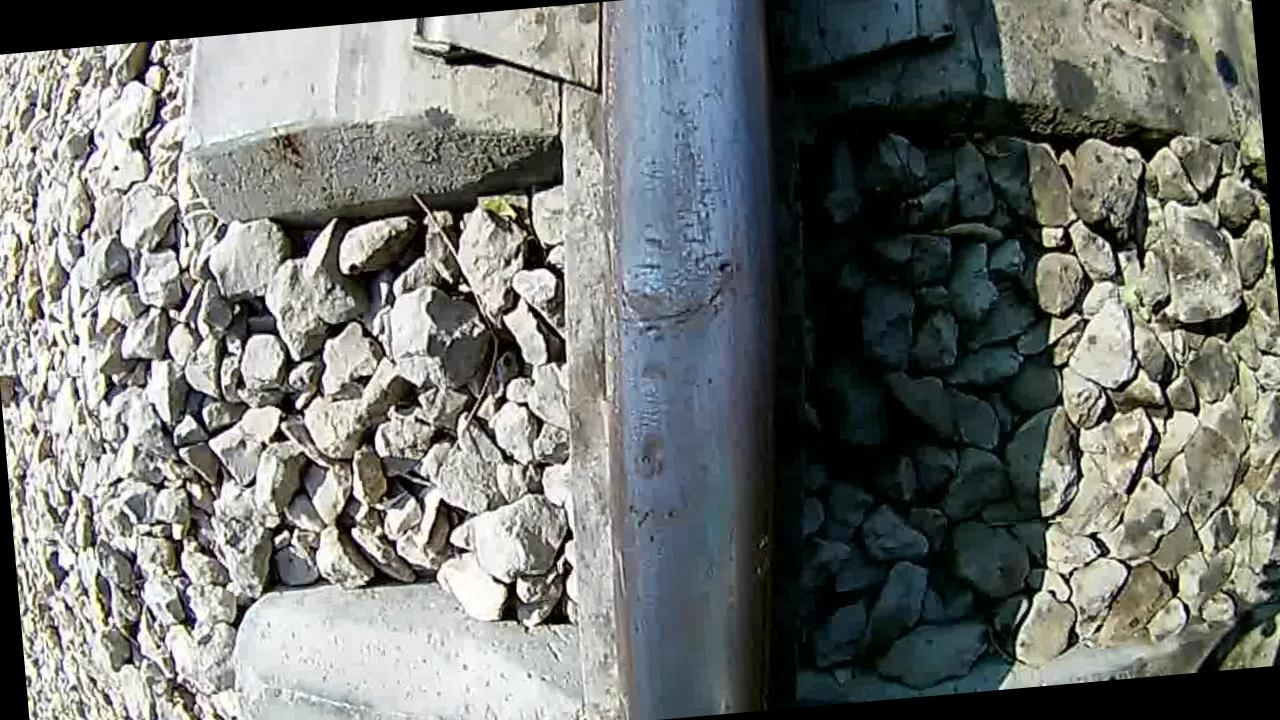crack: (540, 0, 823, 720)
